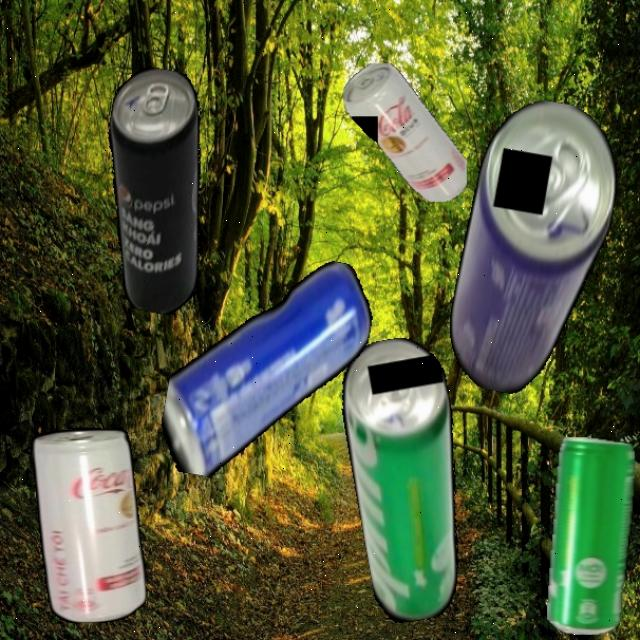debris: (440, 91, 630, 405), (154, 238, 380, 500), (332, 332, 486, 626), (79, 62, 230, 318), (31, 428, 146, 623), (546, 436, 636, 635), (342, 63, 467, 202)
